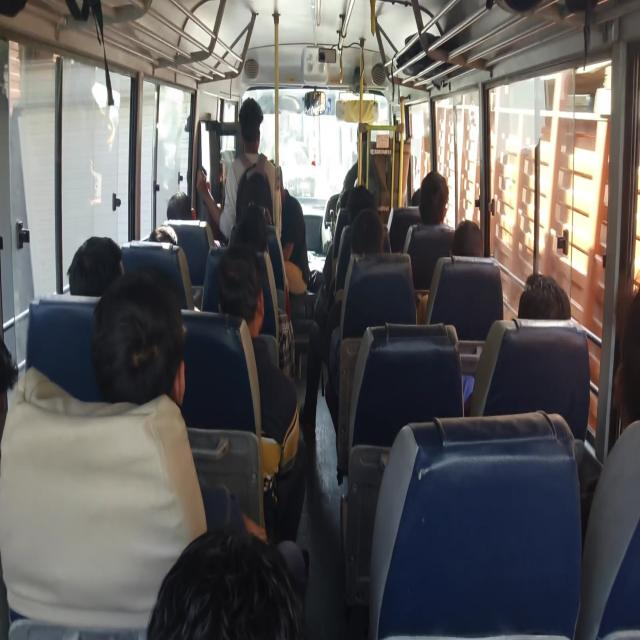person: (136, 510, 267, 640), (106, 261, 206, 426), (503, 276, 573, 346), (606, 304, 640, 440), (75, 228, 128, 306), (224, 254, 274, 324), (0, 338, 49, 406), (233, 100, 277, 166), (168, 187, 218, 232), (148, 225, 192, 273), (421, 175, 455, 236), (349, 221, 392, 263), (230, 216, 269, 255), (451, 215, 483, 256), (351, 189, 379, 228), (254, 203, 278, 237), (413, 184, 432, 212)
